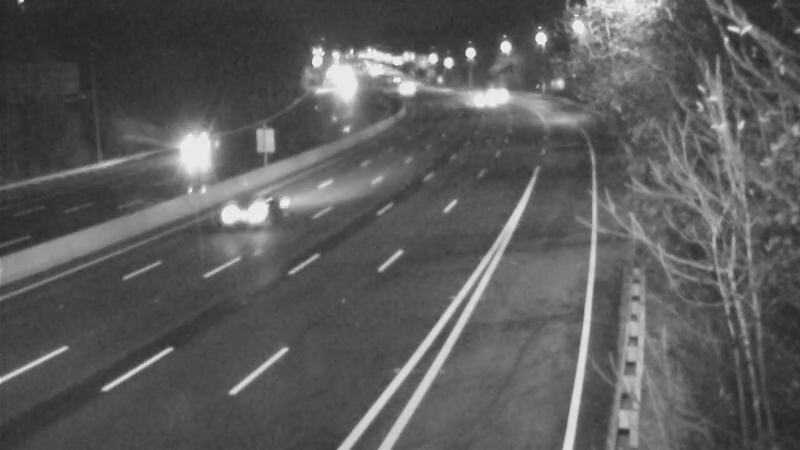vehicle: (200, 181, 280, 261), (159, 110, 239, 190), (378, 63, 428, 113), (444, 75, 494, 125), (473, 72, 523, 122)
